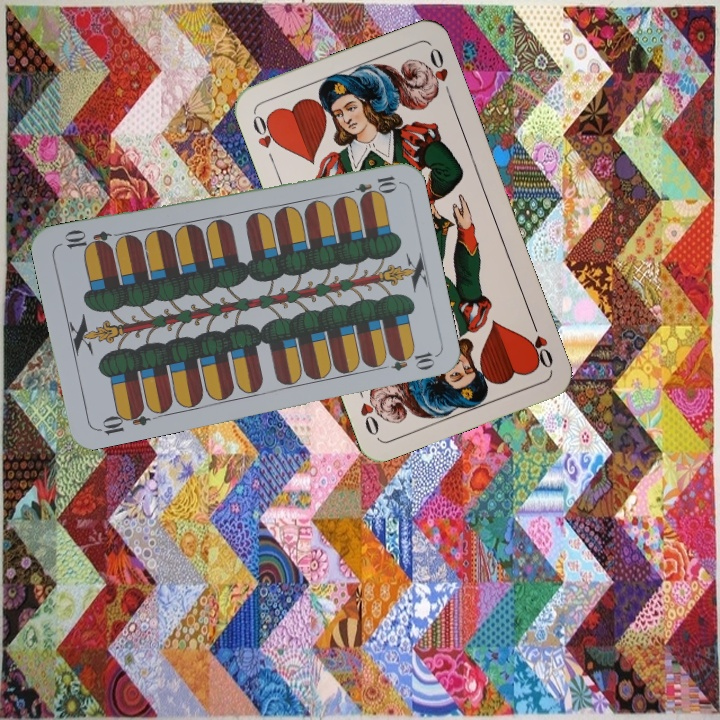E10: (93, 403, 152, 438), (340, 171, 399, 199)
HO: (248, 109, 283, 166), (525, 315, 556, 371)
